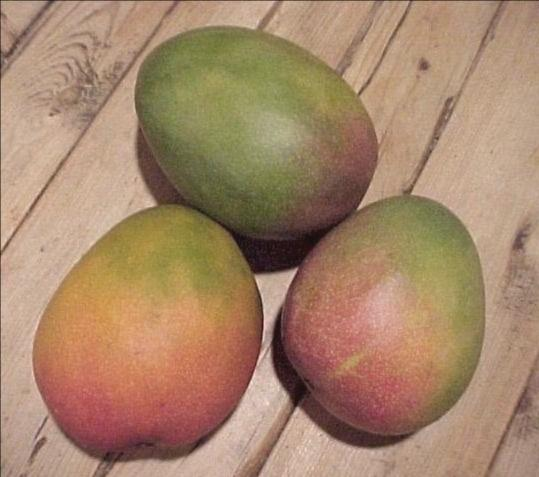xoai: (31, 204, 262, 453), (134, 24, 379, 237), (278, 194, 484, 441)
